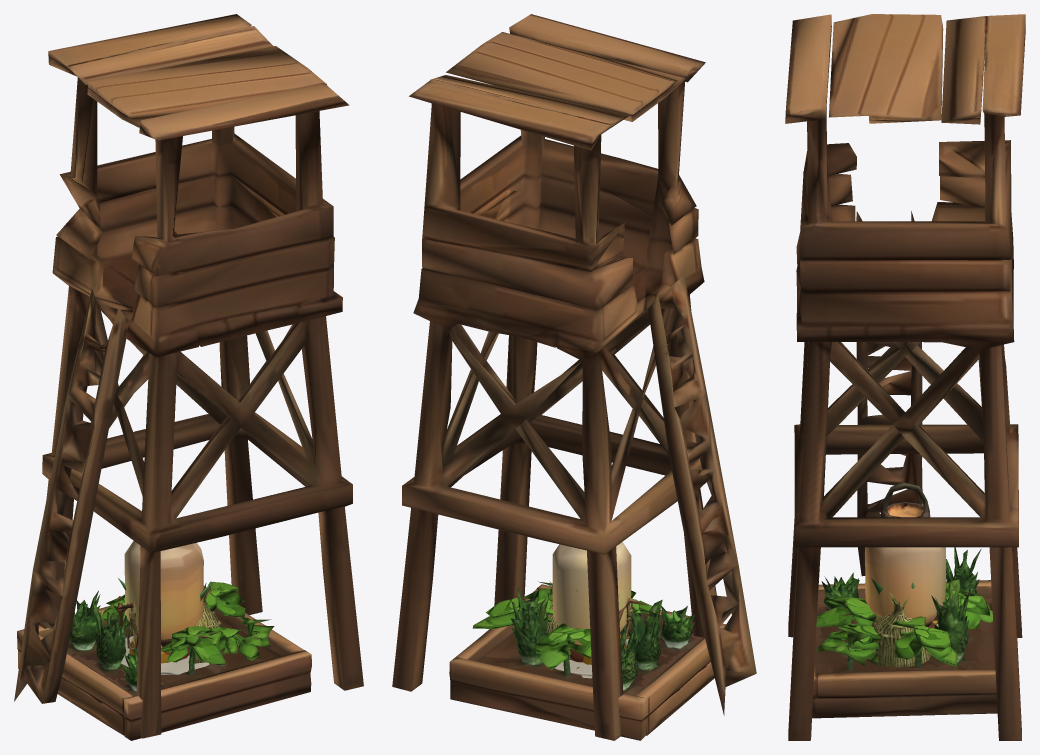
File: Fittings.glb
The picture shows the model from 3 angles, left to right: view 1: azimuth 30°, elevation 25°; view 2: azimuth 150°, elevation 25°; view 3: azimuth 270°, elevation 25°; orthographic projection. The views are drawn at different scales.
Visible parts, largest first — view 1: Watchtower, HerbBed, Lantern, Snare, Sundial; view 2: Watchtower, HerbBed, Lantern; view 3: Watchtower, HerbBed, Lantern, Snare.
Boxes of the visible parts, x1,y1,x2,y2 form: Watchtower: [14, 14, 363, 738]; HerbBed: [17, 581, 311, 740]; Lantern: [124, 541, 203, 646]; Snare: [112, 583, 225, 663]; Sundial: [101, 636, 209, 674]; Watchtower: [392, 14, 756, 740]; HerbBed: [449, 581, 725, 740]; Lantern: [552, 542, 631, 632]; Watchtower: [785, 14, 1025, 740]; HerbBed: [794, 547, 997, 718]; Lantern: [865, 482, 945, 627]; Snare: [866, 592, 930, 667].
Size of the model in its own units: 1.6 by 3.2 by 1.12.
1 material, 1 textured.
